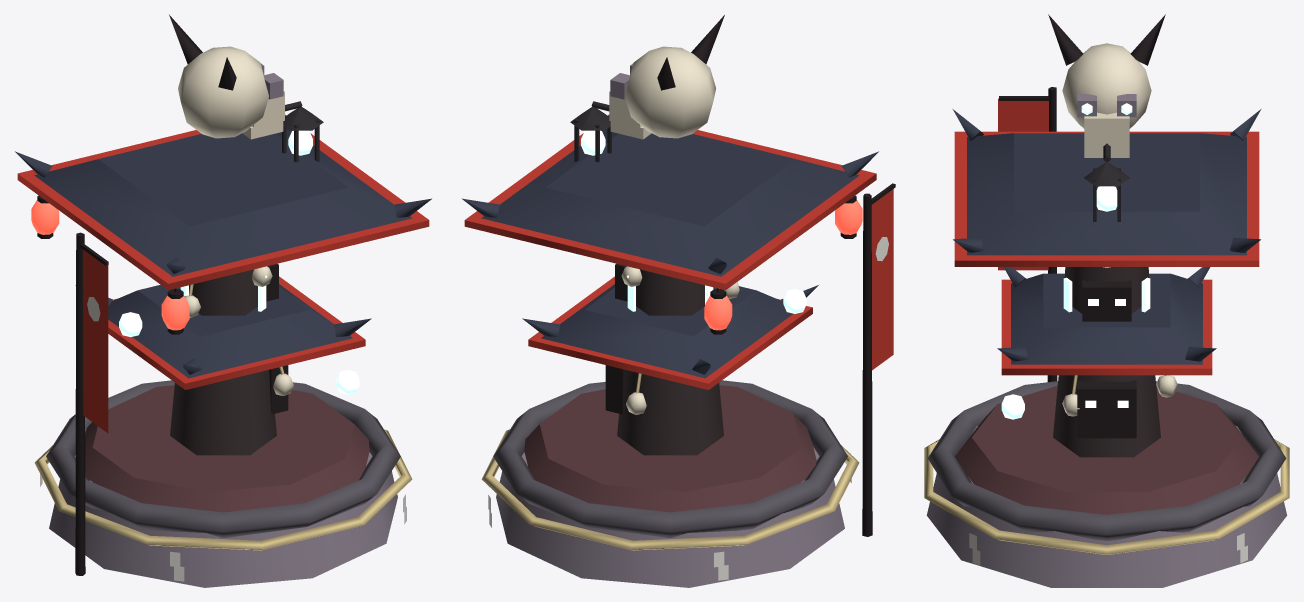
File: tower_necromancer_soulChoir.glb
3 views of the same model, side by side, from view 1: azimuth 30°, elevation 25°; view 2: azimuth 150°, elevation 25°; view 3: azimuth 270°, elevation 25° (orthographic).
Parts seen in each view (by area): view 1: deco_eave_0_roof, grave_soil, base, base_rim, deco_eave_1_roof, deco_eave_0_rim, pole_0, skull_cranium, deco_shimenawa_rope, deco_nobori_cloth, deco_eave_1_rim, deco_nobori_pole (+8 smaller); view 2: deco_eave_0_roof, grave_soil, base, base_rim, deco_eave_1_roof, deco_eave_0_rim, pole_0, skull_cranium, deco_shimenawa_rope, deco_eave_1_rim, deco_nobori_cloth, deco_nobori_pole (+8 smaller); view 3: deco_eave_0_roof, grave_soil, base, base_rim, deco_eave_1_roof, deco_eave_0_rim, deco_shimenawa_rope, skull_cranium, pole_0, deco_eave_1_rim, pole_face_0, pole_face_1 (+11 smaller).
Boxes of the visible parts, left/top/right/bottom form: deco_eave_0_roof: left=34, top=129, right=412, bottom=276; grave_soil: left=85, top=385, right=369, bottom=512; base: left=49, top=452, right=397, bottom=587; base_rim: left=46, top=380, right=400, bottom=538; deco_eave_1_roof: left=108, top=284, right=352, bottom=378; deco_eave_0_rim: left=17, top=114, right=429, bottom=290; pole_0: left=170, top=370, right=276, bottom=455; skull_cranium: left=178, top=46, right=268, bottom=138; deco_shimenawa_rope: left=34, top=429, right=412, bottom=550; deco_nobori_cloth: left=83, top=249, right=108, bottom=433; deco_eave_1_rim: left=108, top=276, right=365, bottom=389; deco_nobori_pole: left=75, top=232, right=85, bottom=575; deco_eave_0_roof: left=481, top=129, right=859, bottom=276; grave_soil: left=524, top=385, right=816, bottom=512; base: left=496, top=447, right=844, bottom=587; base_rim: left=493, top=380, right=847, bottom=538; deco_eave_1_roof: left=541, top=284, right=793, bottom=378; deco_eave_0_rim: left=464, top=114, right=876, bottom=290; pole_0: left=617, top=370, right=723, bottom=455; skull_cranium: left=625, top=46, right=715, bottom=138; deco_shimenawa_rope: left=481, top=429, right=859, bottom=550; deco_eave_1_rim: left=528, top=276, right=812, bottom=389; deco_nobori_cloth: left=871, top=189, right=893, bottom=370; deco_nobori_pole: left=862, top=193, right=872, bottom=536; deco_eave_0_roof: left=967, top=133, right=1246, bottom=255; grave_soil: left=955, top=385, right=1258, bottom=514; base: left=926, top=426, right=1287, bottom=587; base_rim: left=927, top=381, right=1286, bottom=540; deco_eave_1_roof: left=1011, top=273, right=1202, bottom=364; deco_eave_0_rim: left=954, top=131, right=1259, bottom=266; deco_shimenawa_rope: left=924, top=439, right=1289, bottom=554; skull_cranium: left=1062, top=43, right=1151, bottom=128; pole_0: left=1053, top=375, right=1160, bottom=457; deco_eave_1_rim: left=1001, top=279, right=1212, bottom=375; pole_face_0: left=1077, top=380, right=1136, bottom=438; pole_face_1: left=1082, top=279, right=1131, bottom=321.
Size of the model in its own units: 0.4387 by 0.5985 by 0.4052.
